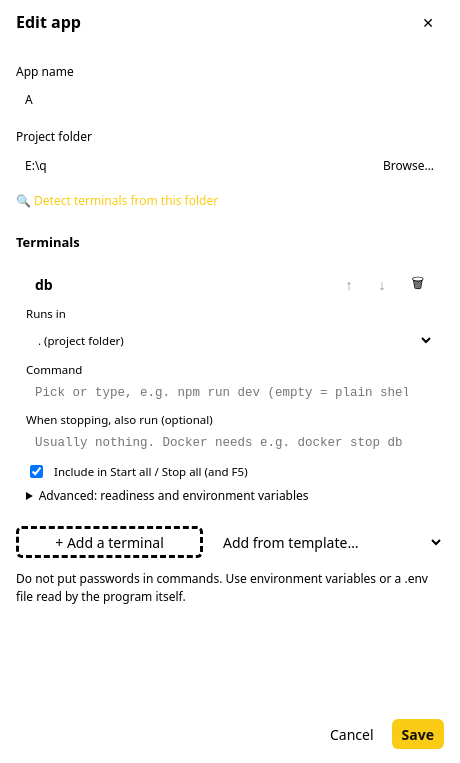
Test case: EditPane: novice flow (pickers, detection, autocomplete) › docker start X fills the stop command, follows edits, and never overwrites the user's own text
Later steps or results of the test are not shown.
In the field named "Terminal 1 command": (230, 393) [26,380,434,406], type "docker start pg"
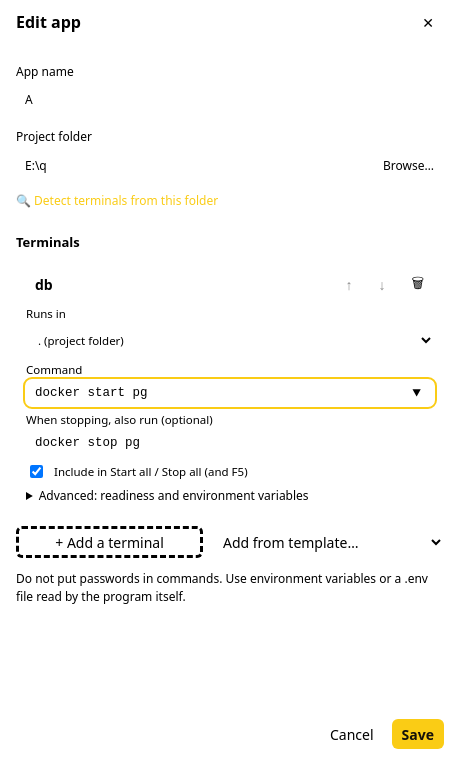
Check: the field named "Terminal 1 stop command" holds "docker stop pg", box [26,430,434,456]
Replace the text in the field named "Terminal 1 command" with "docker start redis": (230, 393) [26,380,434,406]
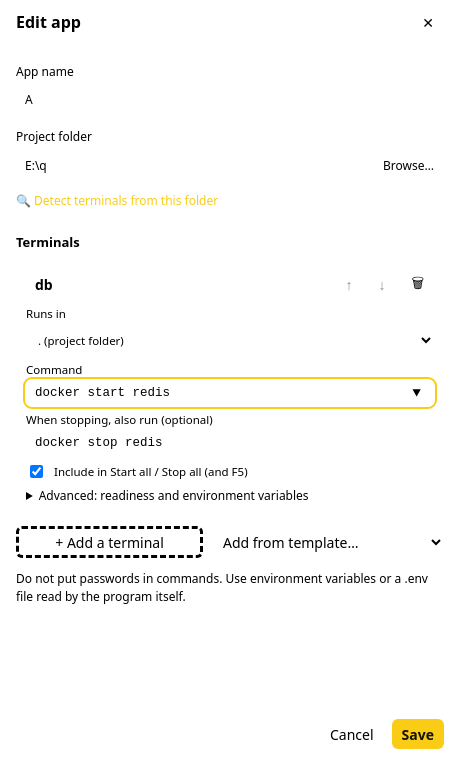
Check: the field named "Terminal 1 stop command" holds "docker stop redis", box [26,430,434,456]
